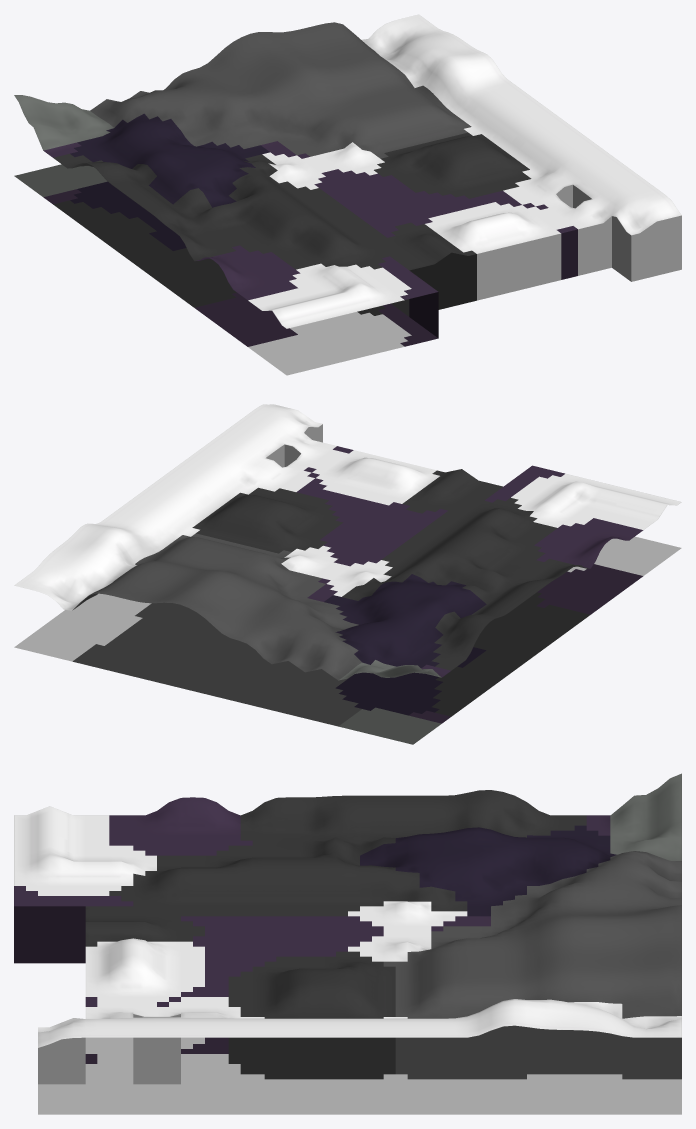
Rendered from delbld-hull-293.glb.
The picture shows the model from 3 angles, top to bottom: view 1: azimuth 30°, elevation 25°; view 2: azimuth 150°, elevation 25°; view 3: azimuth 270°, elevation 25°; orthographic projection. The views are drawn at different scales.
Visible parts, largest first — view 1: delbld-hull-293; view 2: delbld-hull-293; view 3: delbld-hull-293.
Part boxes in pixels (left/top/right/bottom): delbld-hull-293: left=14, top=14, right=681, bottom=375; delbld-hull-293: left=14, top=404, right=681, bottom=744; delbld-hull-293: left=14, top=773, right=681, bottom=1114.
Size of the model in its own units: 2 by 0.3988 by 2.33.
13 materials, 13 textured.
